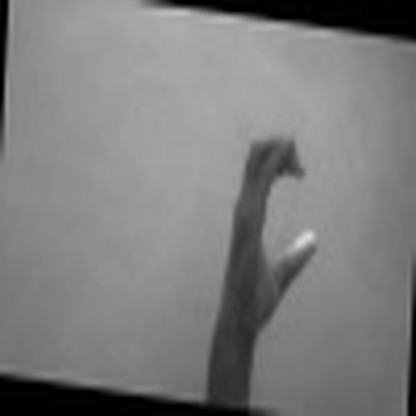c: (219, 129, 327, 316)
